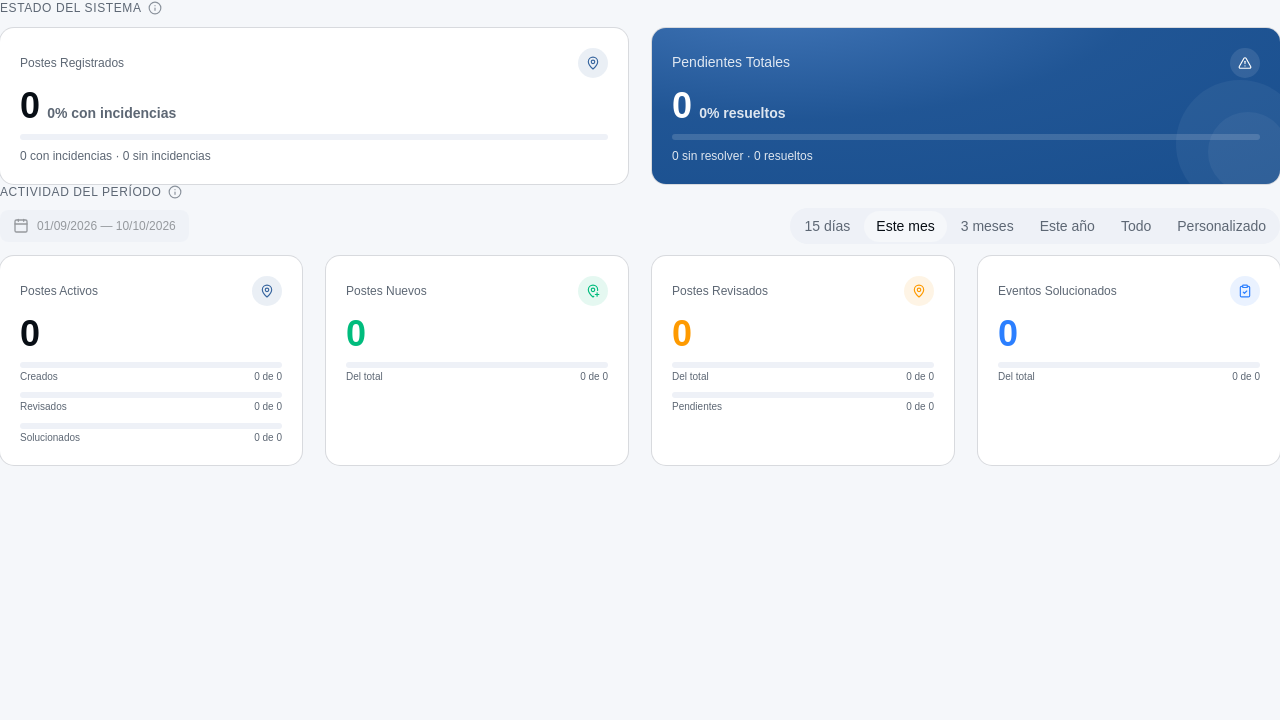
Scenario: the explanations of the KPI rows › Información sobre las métricas del período opens on a click
Click the button named "Información sobre las métricas del período" at x=174, y=192, box x1=168 y1=185 x2=182 y2=199
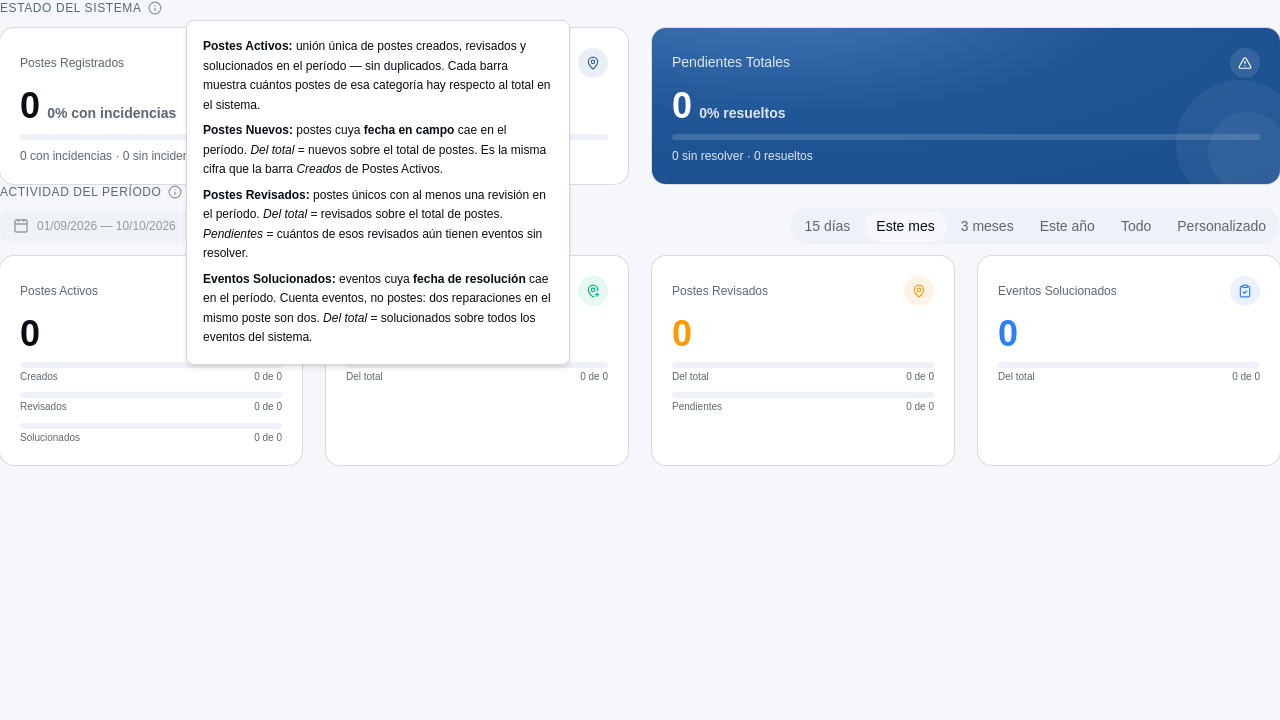
Now the text "unión única de postes creados" is shown, box x1=203 y1=39 x2=550 y2=112
Click the button named "Información sobre las métricas del período" at x=174, y=192, box x1=168 y1=185 x2=182 y2=199
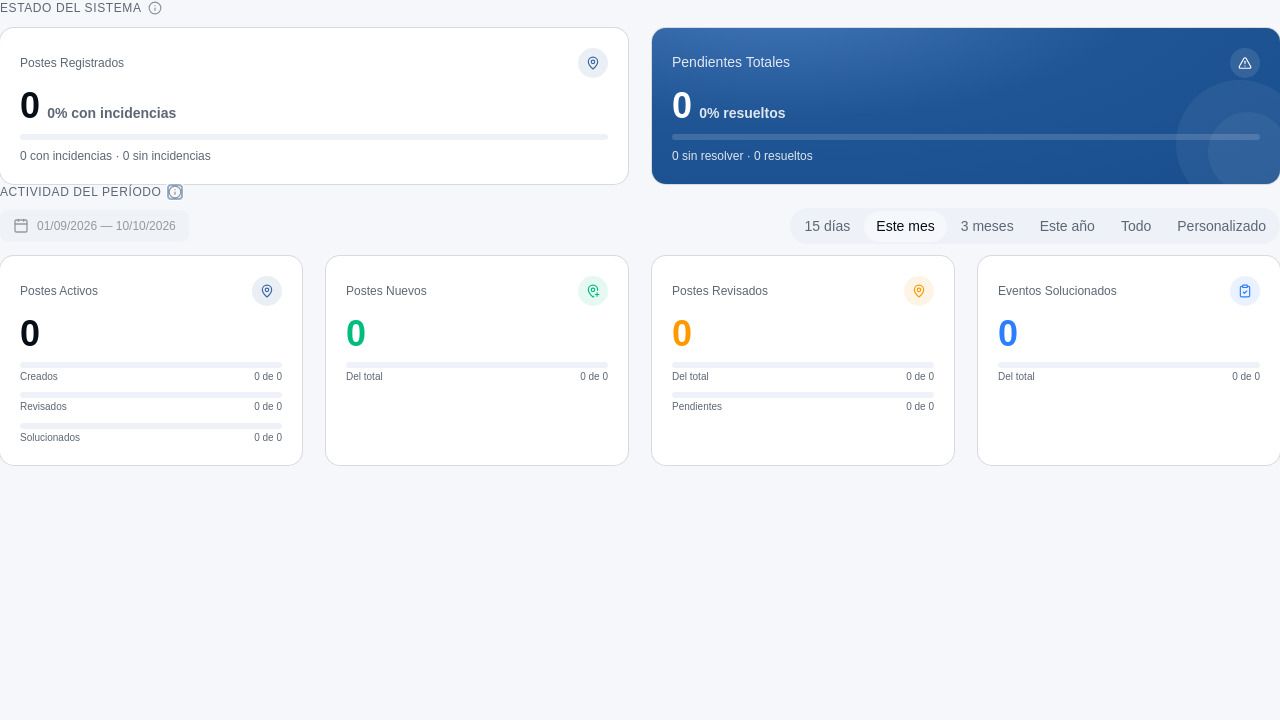
Now the text "unión única de postes creados" is gone
